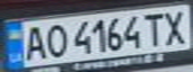1: (90, 17, 109, 53)
4: (121, 12, 145, 50), (72, 18, 93, 55)
6: (106, 15, 127, 52)
A: (18, 22, 48, 61)
O: (39, 21, 69, 59)
T: (139, 10, 169, 47)
X: (160, 7, 193, 46)
